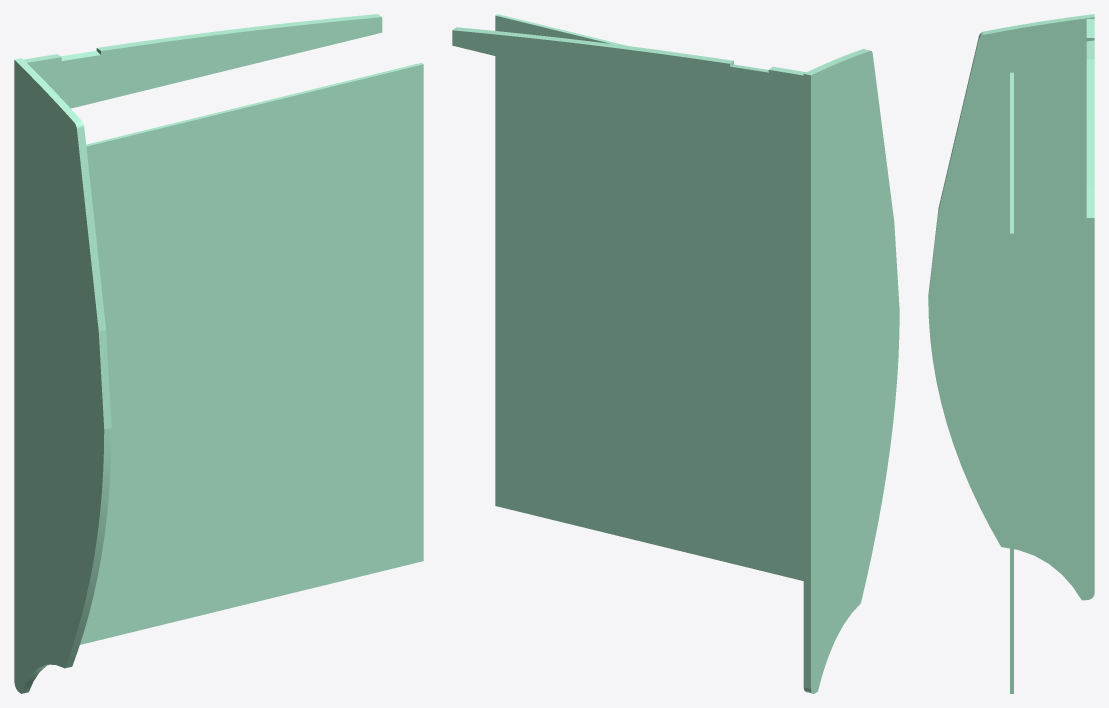
Rendered from OUTFITTING_INTERIOR__galley, workbench, shelving, etc.__CABINETS__WM CABINET__36_ long version approx_ summer 2025.glb.
3 views of the same model, side by side, from view 1: azimuth 30°, elevation 25°; view 2: azimuth 150°, elevation 25°; view 3: azimuth 270°, elevation 25° (orthographic). The views are drawn at different scales.
Visible parts, largest first — view 1: 36" long version approx/ summer 2025; view 2: 36" long version approx/ summer 2025; view 3: 36" long version approx/ summer 2025.
Part boxes in pixels (x1=…): 36" long version approx/ summer 2025: x1=14, y1=14, x2=423, y2=693; 36" long version approx/ summer 2025: x1=452, y1=14, x2=899, y2=693; 36" long version approx/ summer 2025: x1=928, y1=14, x2=1094, y2=693.
Bounding box in the file's own units: 0.9334 × 1.54 × 0.3995.
